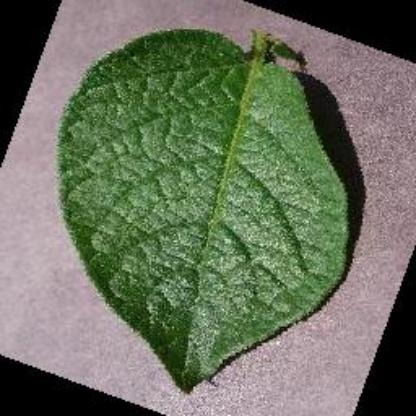Healthy-plant: (56, 21, 364, 394)
